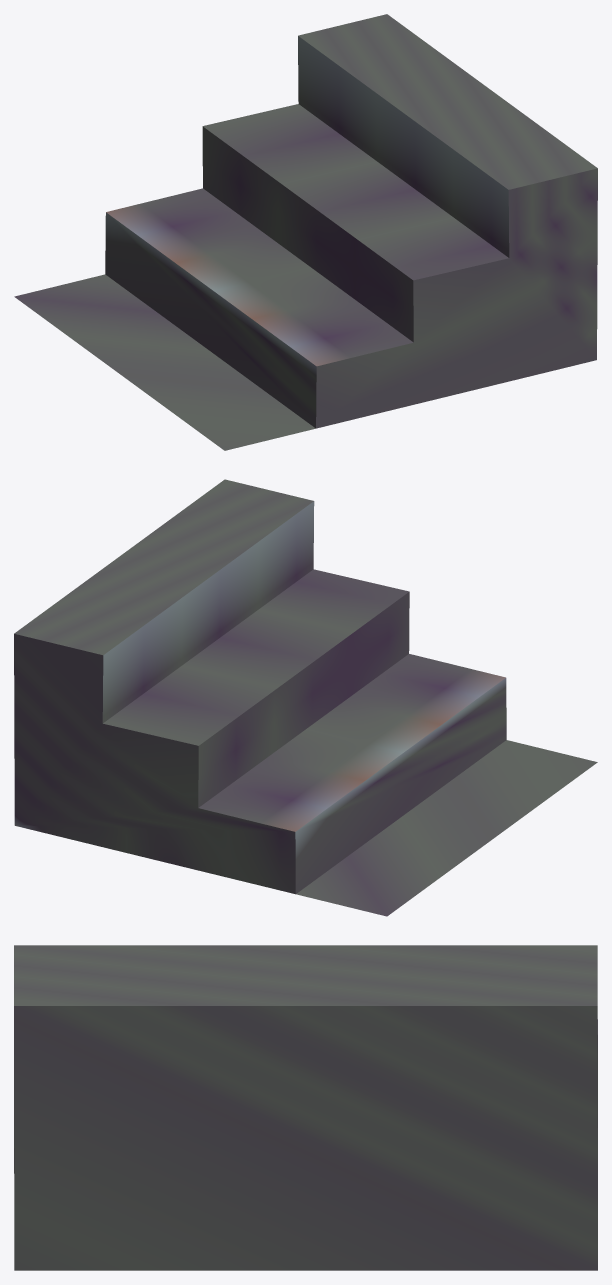
File: ground-small-stairs-1.glb
The picture shows the model from 3 angles, top to bottom: view 1: azimuth 30°, elevation 25°; view 2: azimuth 150°, elevation 25°; view 3: azimuth 270°, elevation 25°; orthographic projection. The views are drawn at different scales.
Parts seen in each view (by area): view 1: Plane; view 2: Plane; view 3: Plane.
Part boxes in pixels (x1,y1,x2,y2): Plane: (14, 14, 597, 450); Plane: (14, 479, 597, 916); Plane: (14, 945, 597, 1270).
Bounding box in the file's own units: 2.03 × 0.9989 × 1.99.
1 material, 1 textured.
